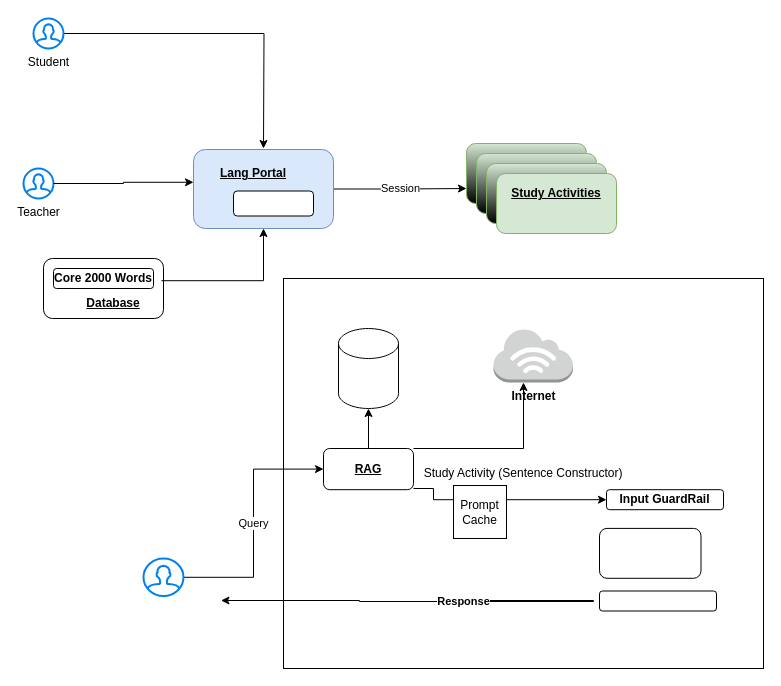
Image size: 781x686. Some labels were removed from this diagram. The shapes that lost their labels are listed below. From the top down, each one's centre as x and y in pixels, then its label:
pixel 273 203: Word Group
pixel 368 368: Vector Database
pixel 649 552: LLM 7B
pixel 163 576: User
pixel 657 600: Output GuardRail
